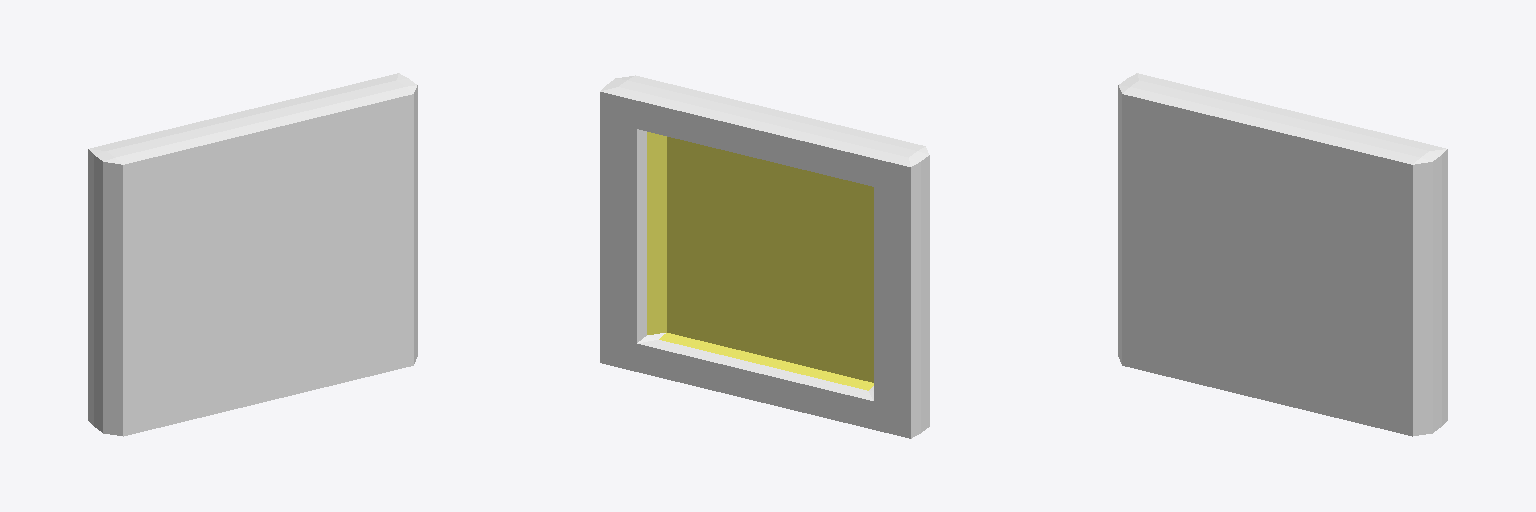
File: Picture_2.obj
3 renders of one model, left to right at view 1: azimuth 30°, elevation 25°; view 2: azimuth 150°, elevation 25°; view 3: azimuth 330°, elevation 25°, orthographic.
Parts seen in each view (by area): view 1: Picture_2_Cube.030; view 2: Picture_2_Cube.030; view 3: Picture_2_Cube.030.
Part boxes in pixels (left/top/right/bottom): Picture_2_Cube.030: left=88, top=73, right=417, bottom=436; Picture_2_Cube.030: left=600, top=75, right=929, bottom=438; Picture_2_Cube.030: left=1118, top=73, right=1447, bottom=436.
Bounding box in the file's own units: 0.8834 × 0.7363 × 0.1231.